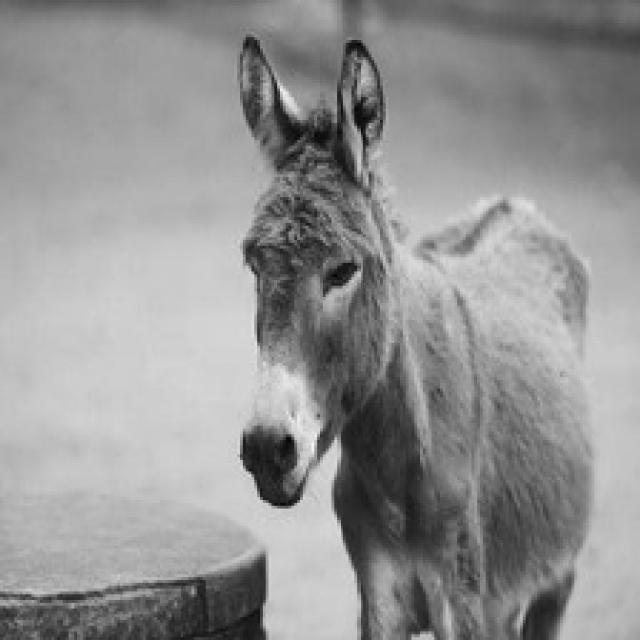Donkey: (235, 32, 594, 637)
